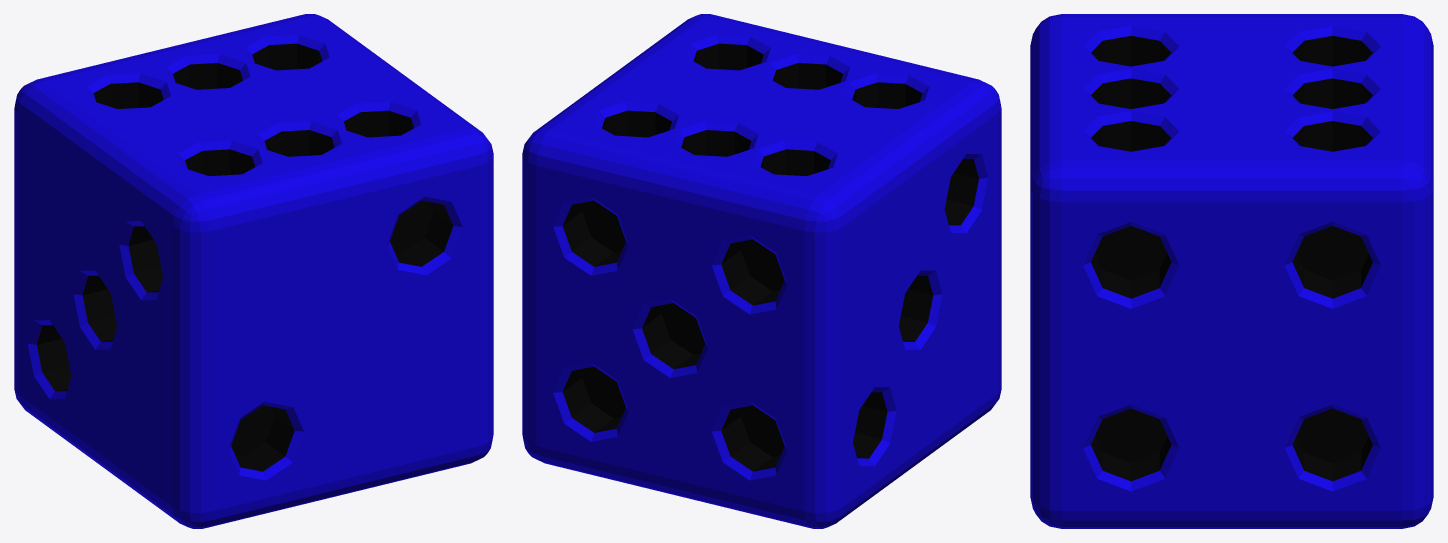
The model's file is dice_blue.glb.
The picture shows the model from 3 angles, left to right: view 1: azimuth 30°, elevation 25°; view 2: azimuth 150°, elevation 25°; view 3: azimuth 270°, elevation 25°; orthographic projection. The views are drawn at different scales.
Parts seen in each view (by area): view 1: Cube; view 2: Cube; view 3: Cube.
Part boxes in pixels (x1,y1,x2,y2): Cube: [14, 14, 493, 528]; Cube: [522, 14, 1001, 528]; Cube: [1030, 14, 1433, 528].
Size of the model in its own units: 2 by 2 by 2.
